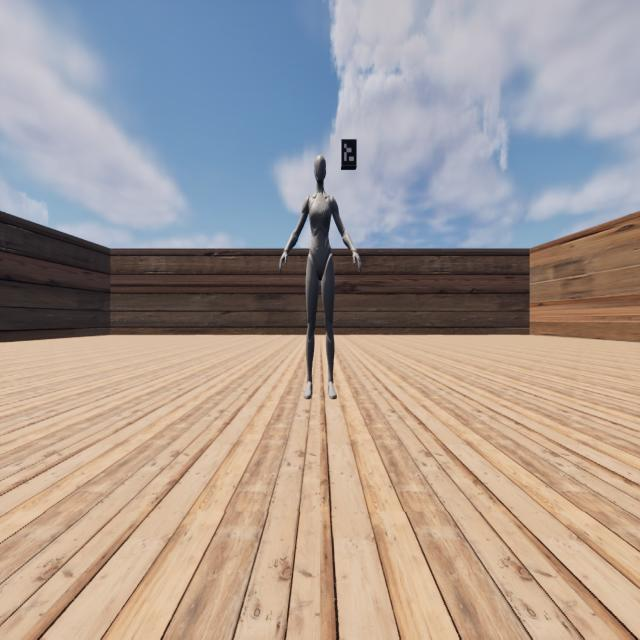aruco: (341, 139, 357, 164)
hip: (306, 254, 334, 268)
